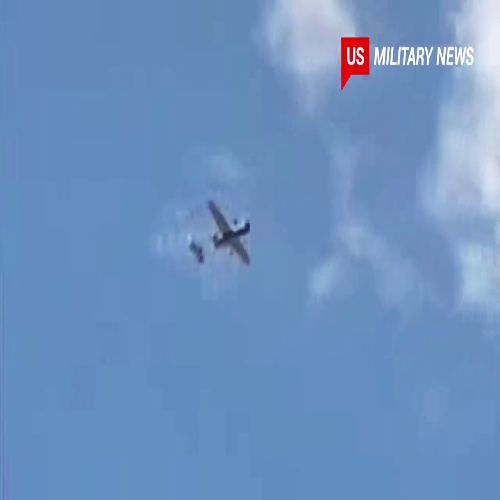uav430: (188, 197, 257, 270)
